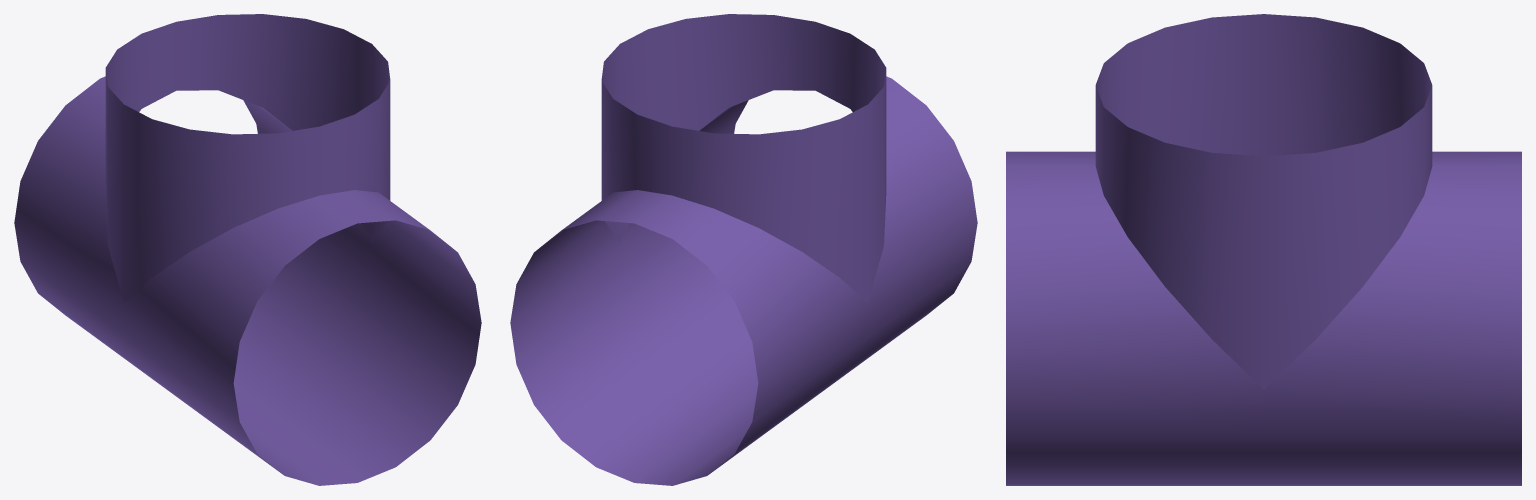
Rendered from SM_Pipes_TUp.fbx.
3 views of the same model, side by side, from view 1: azimuth 30°, elevation 25°; view 2: azimuth 150°, elevation 25°; view 3: azimuth 270°, elevation 25° (orthographic). The views are drawn at different scales.
Visible parts, largest first — view 1: SM_Pipes_TUp; view 2: SM_Pipes_TUp; view 3: SM_Pipes_TUp.
Boxes of the visible parts, x1,y1,x2,y2 form: SM_Pipes_TUp: (14,14,481,485); SM_Pipes_TUp: (510,14,977,485); SM_Pipes_TUp: (1006,14,1521,485).
Size of the model in its own units: 327 by 413 by 500.
